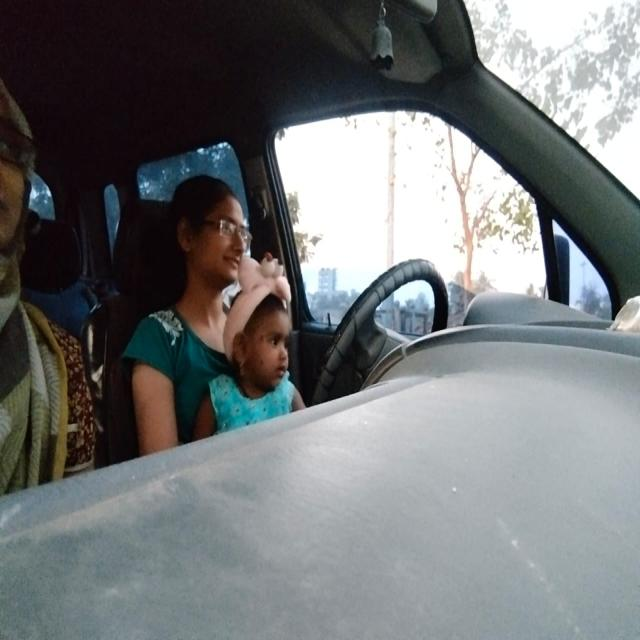child: (225, 268, 302, 392)
person: (165, 171, 250, 289), (0, 78, 35, 246)
